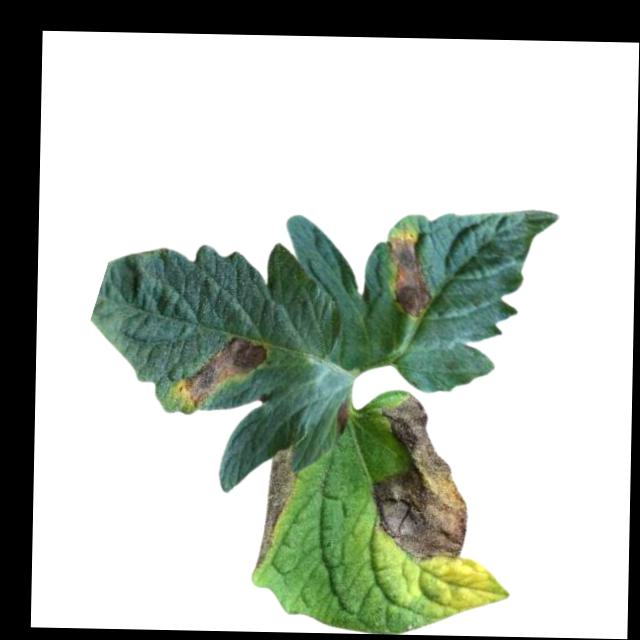Early_blight: (367, 394, 469, 561), (171, 333, 266, 406), (255, 445, 295, 571), (382, 231, 434, 318), (335, 398, 352, 434)
